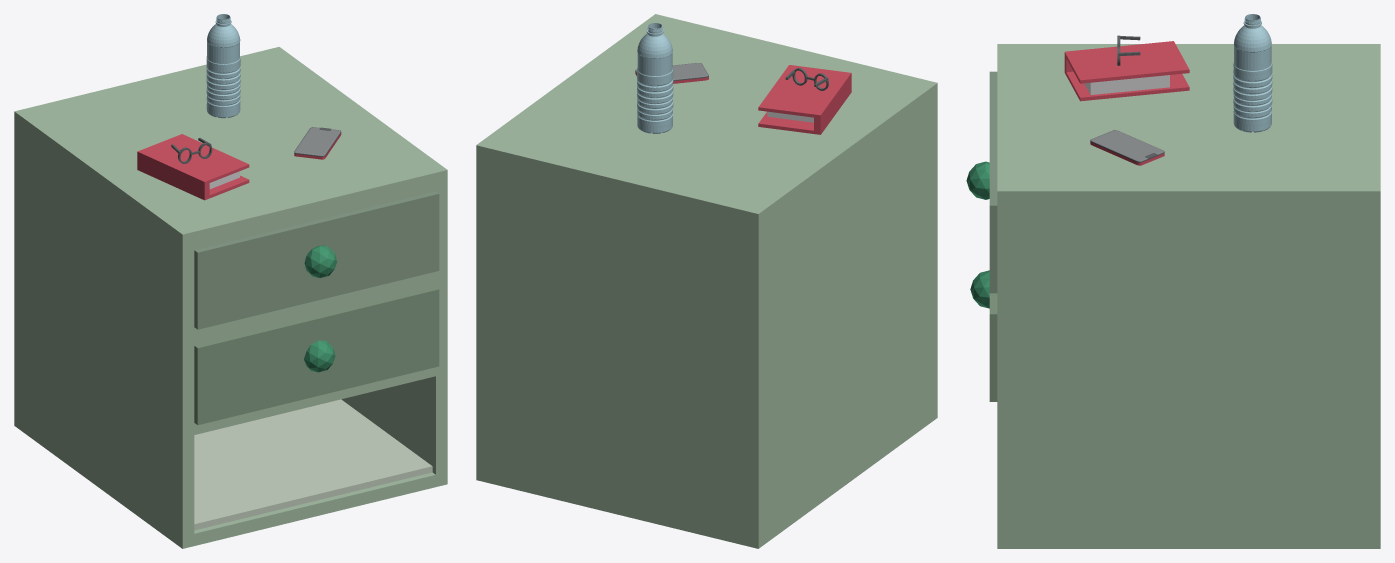
The picture shows the model from 3 angles, left to right: view 1: azimuth 30°, elevation 25°; view 2: azimuth 150°, elevation 25°; view 3: azimuth 270°, elevation 25°; orthographic projection. The views are drawn at different scales.
Visible parts, largest first — view 1: Mesh_Mesh_head_geo.001_lambert2SG.001; view 2: Mesh_Mesh_head_geo.001_lambert2SG.001; view 3: Mesh_Mesh_head_geo.001_lambert2SG.001.
Part boxes in pixels (left/top/right/bottom): Mesh_Mesh_head_geo.001_lambert2SG.001: left=14, top=14, right=447, bottom=548; Mesh_Mesh_head_geo.001_lambert2SG.001: left=476, top=14, right=937, bottom=548; Mesh_Mesh_head_geo.001_lambert2SG.001: left=966, top=14, right=1380, bottom=548.
Bounding box in the file's own units: 90 × 134 × 107.
